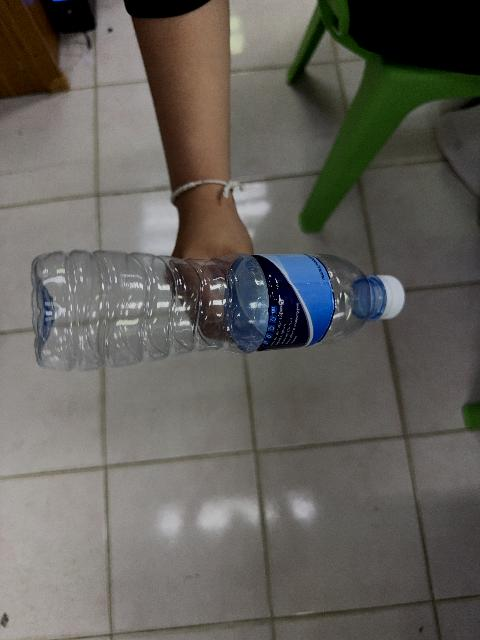bottle: (32, 251, 404, 370)
